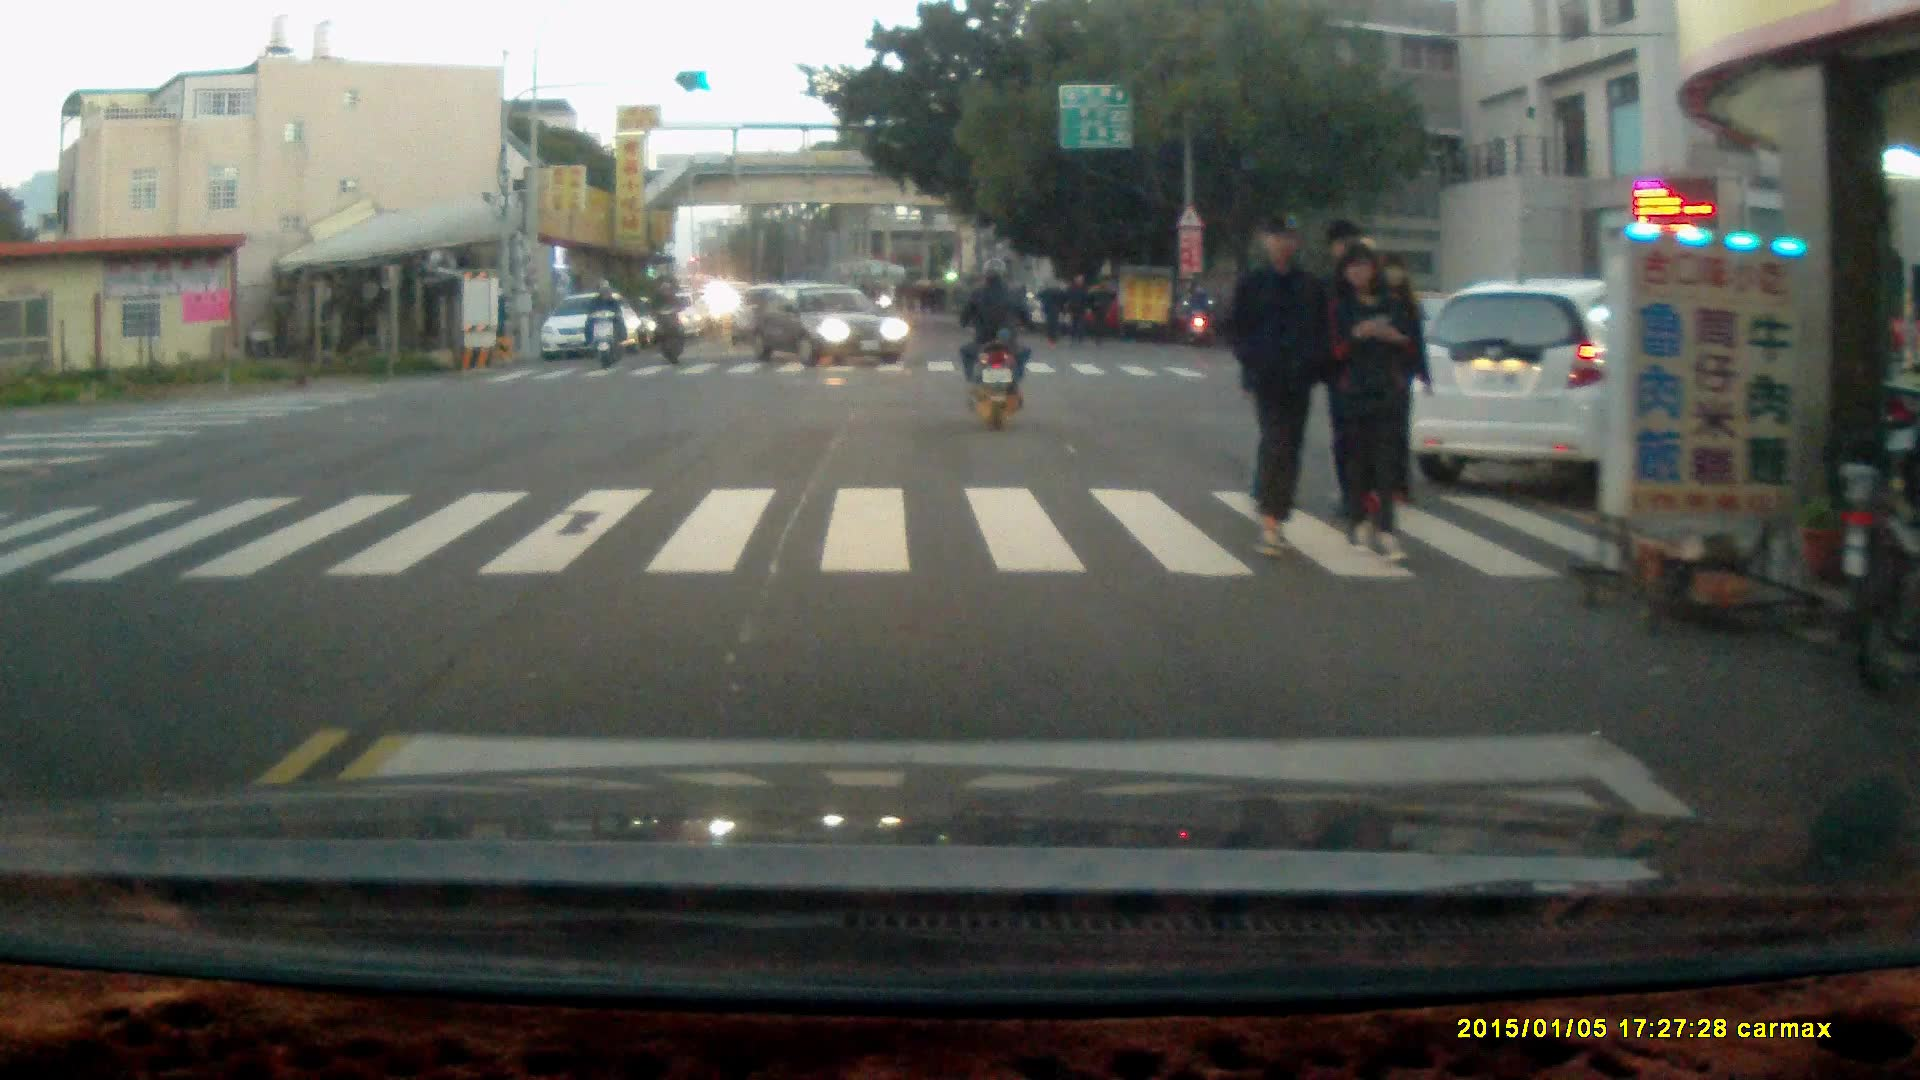pedestrian: (1223, 214, 1334, 559), (1322, 240, 1411, 562), (1081, 280, 1112, 351), (1062, 271, 1089, 350), (1035, 275, 1062, 347)
rider: (957, 255, 1027, 435), (647, 279, 689, 370), (583, 276, 623, 369), (1177, 287, 1217, 350)
vehicle: (1410, 275, 1867, 497), (745, 280, 908, 372), (540, 295, 643, 365)
